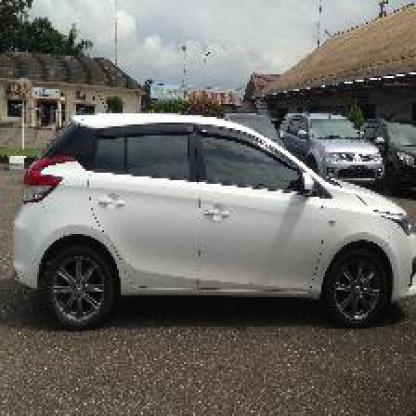not_emergency: (15, 102, 414, 340)
